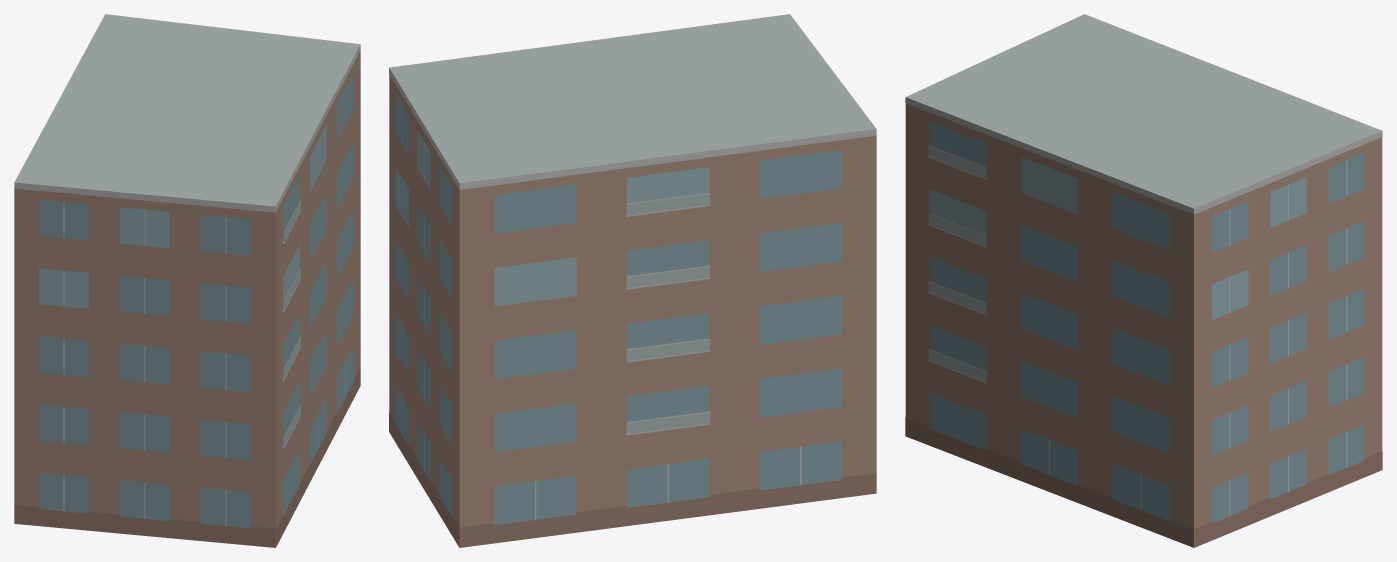
Rendered from survey-upis-32745142.glb.
3 views of the same model, side by side, from view 1: azimuth 30°, elevation 25°; view 2: azimuth 150°, elevation 25°; view 3: azimuth 270°, elevation 25° (orthographic). The views are drawn at different scales.
Parts seen in each view (by area): view 1: survey-upis-32745142.tmp; view 2: survey-upis-32745142.tmp; view 3: survey-upis-32745142.tmp.
Part boxes in pixels (bbox=[...]): survey-upis-32745142.tmp: bbox=[14, 14, 360, 547]; survey-upis-32745142.tmp: bbox=[389, 14, 876, 547]; survey-upis-32745142.tmp: bbox=[905, 14, 1382, 547].
Size of the model in its own units: 17 by 13.8 by 17.6.
